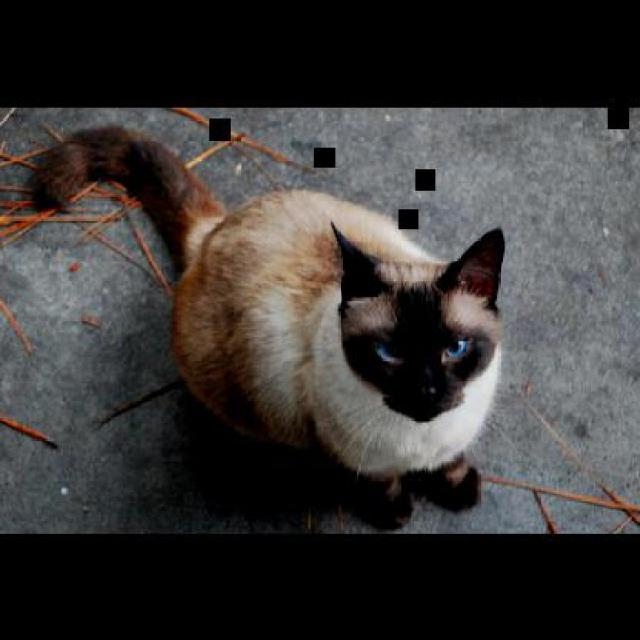unauthorized: (29, 123, 506, 529)
